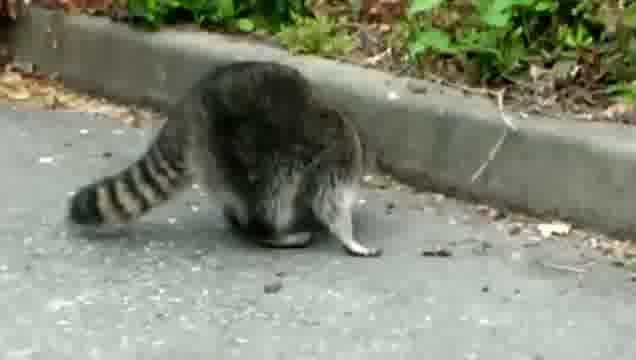raccoon: (68, 57, 384, 260)
